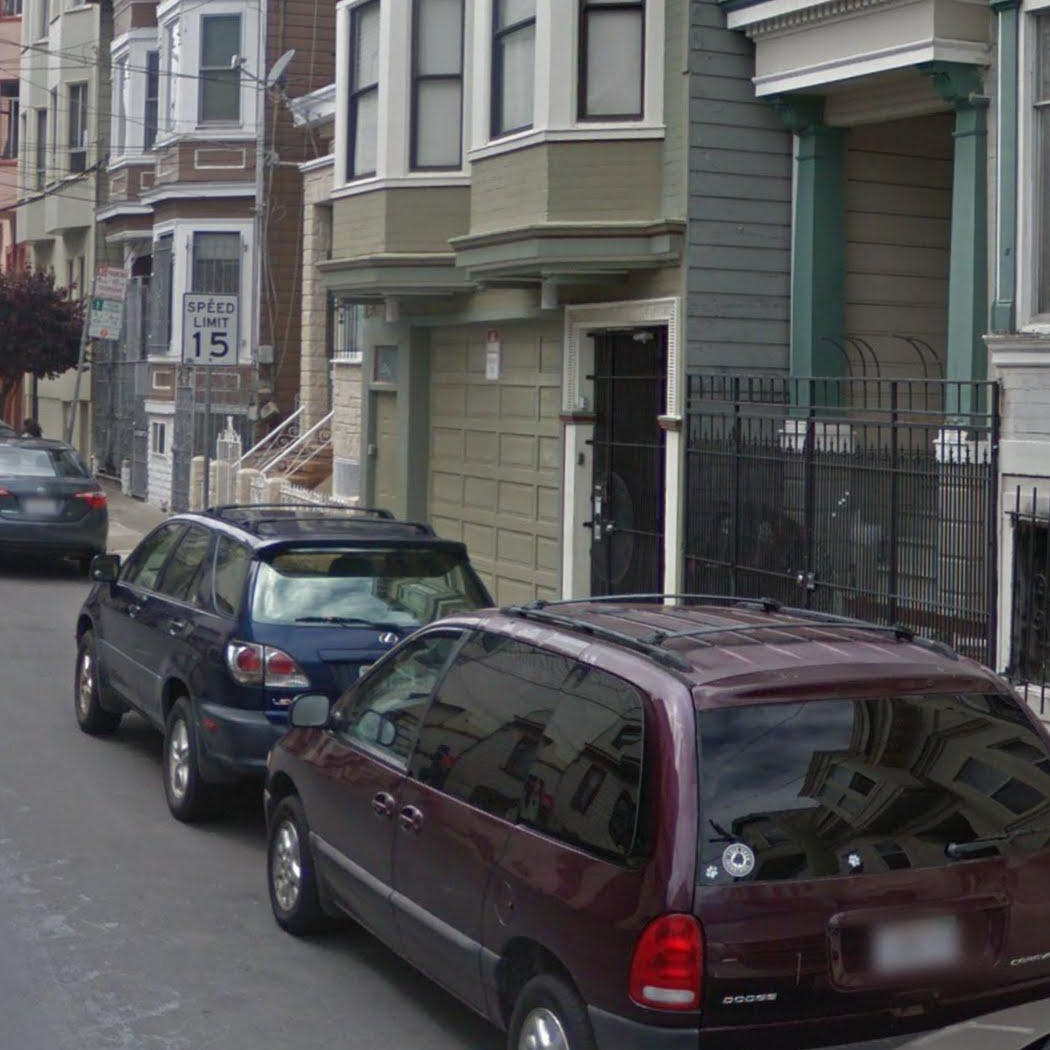1 Hour Parking: (89, 300, 126, 329)
No Parking: (93, 263, 130, 301)
